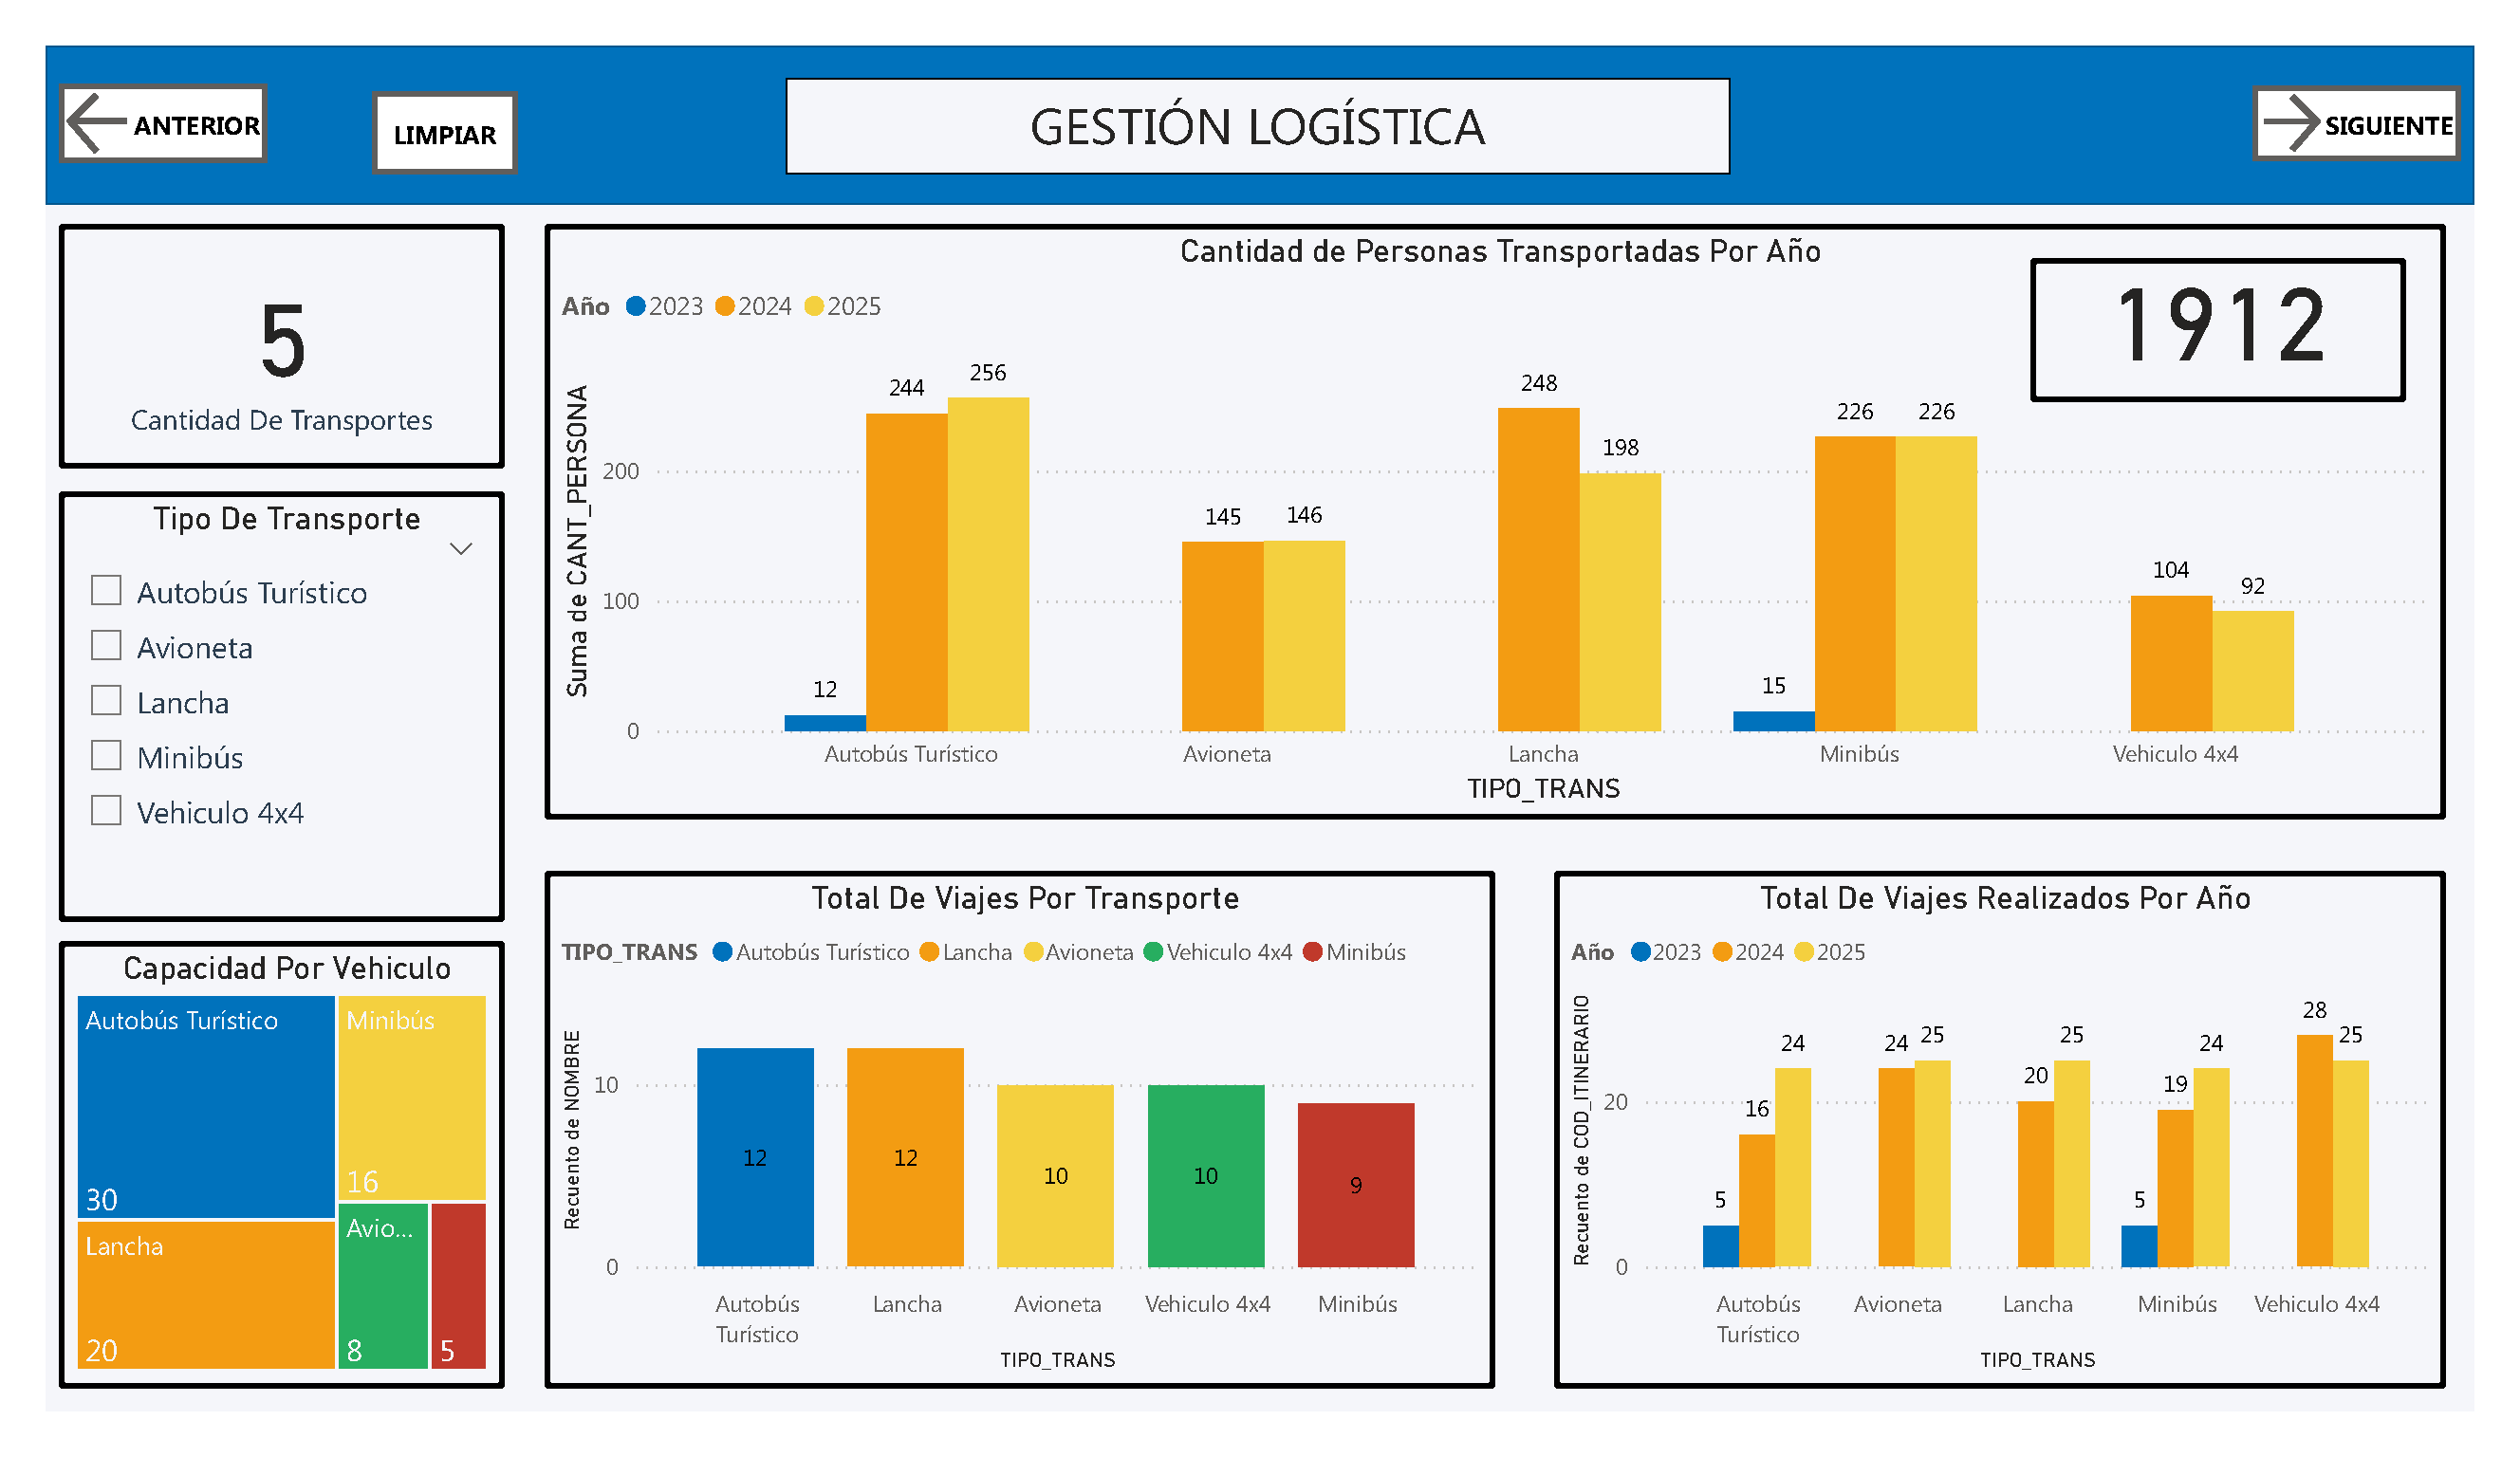

The dashboard page shown, as its layout file describes it:
{"tool":"powerbi","page":{"name":"LOGISTICA","canvas":[1280,720],"ordinal":6},"visuals":[{"type":"clusteredColumnChart","title":"Cantidad de Personas Transportadas Por Año","fields":{"Category":["TIPO_TRANSPORTE.TIPO_TRANS"],"Y":["Sum(RESERVACION.CANT_PERSONA)"],"Series":["RESERVACION.FECHA.Variación.Jerarquía de fechas.Año"]},"box":[262.6,94.3,1002.8,313.2],"z":0},{"type":"treemap","title":"Capacidad Por Vehiculo","fields":{"Group":["TIPO_TRANSPORTE.TIPO_TRANS"],"Values":["Sum(TIPO_TRANSPORTE.CAPACIDAD)"]},"box":[6.8,471.7,235.4,236.4],"z":1000},{"type":"clusteredColumnChart","title":"Total De Viajes Realizados Por Año","fields":{"Category":["TIPO_TRANSPORTE.TIPO_TRANS"],"Y":["CountNonNull(ITINERARIO.COD_ITINERARIO)"],"Series":["RESERVACION.FECHA.Variación.Jerarquía de fechas.Año"]},"box":[794.6,434.6,470.6,273.1],"z":2000},{"type":"shape","box":[0,0,1280,83.8],"z":3000},{"type":"textbox","box":[390,16.7,498.3,51.7],"z":4000},{"type":"actionButton","box":[1163.4,21.1,109.8,39.5],"z":5000},{"type":"actionButton","title":"Atras","box":[7,20.2,109.8,42.1],"z":6000},{"type":"slicer","title":"Tipo De Transporte","fields":{"Values":["TIPO_TRANSPORTE.TIPO_TRANS"]},"box":[6.8,235.4,235.4,226.6],"z":7000},{"type":"card","fields":{"Values":["CountNonNull(TIPO_TRANSPORTE.COD_TIPO_TRANS)"]},"box":[6.8,94.3,235.4,128.4],"z":8000},{"type":"columnChart","title":"Total De Viajes Por Transporte","fields":{"Category":["Trans_Dest.TIPO_TRANS"],"Y":["CountNonNull(Trans_Dest.NOMBRE)"],"Series":["Trans_Dest.TIPO_TRANS"]},"box":[262.6,434.8,501.9,273.3],"z":9000},{"type":"card","fields":{"Values":["Sum(RESERVACION.CANT_PERSONA)"]},"box":[1045.8,112.4,198.4,75.5],"z":10000},{"type":"actionButton","box":[172.1,23.7,77.3,44.8],"z":11000}]}

Visuals, with their boxes in screenshot pixels (x1, y1, x2, y2), scaled from the page's 1280x720 canvas onto the 2520x1457 screenshot:
"Cantidad de Personas Transportadas Por Año" clusteredColumnChart: l=517, t=191, r=2492, b=824
"Capacidad Por Vehiculo" treemap: l=13, t=954, r=477, b=1433
"Total De Viajes Realizados Por Año" clusteredColumnChart: l=1565, t=879, r=2491, b=1432
shape: l=0, t=0, r=2519, b=170
textbox: l=768, t=34, r=1749, b=138
actionButton: l=2290, t=43, r=2507, b=122
"Atras" actionButton: l=14, t=41, r=230, b=126
"Tipo De Transporte" slicer: l=13, t=476, r=477, b=935
card - CountNonNull(TIPO_TRANSPORTE.COD_TIPO_TRANS): l=13, t=191, r=477, b=451
"Total De Viajes Por Transporte" columnChart: l=517, t=880, r=1505, b=1433
card - Sum(RESERVACION.CANT_PERSONA): l=2059, t=228, r=2450, b=380
actionButton: l=339, t=48, r=491, b=138
